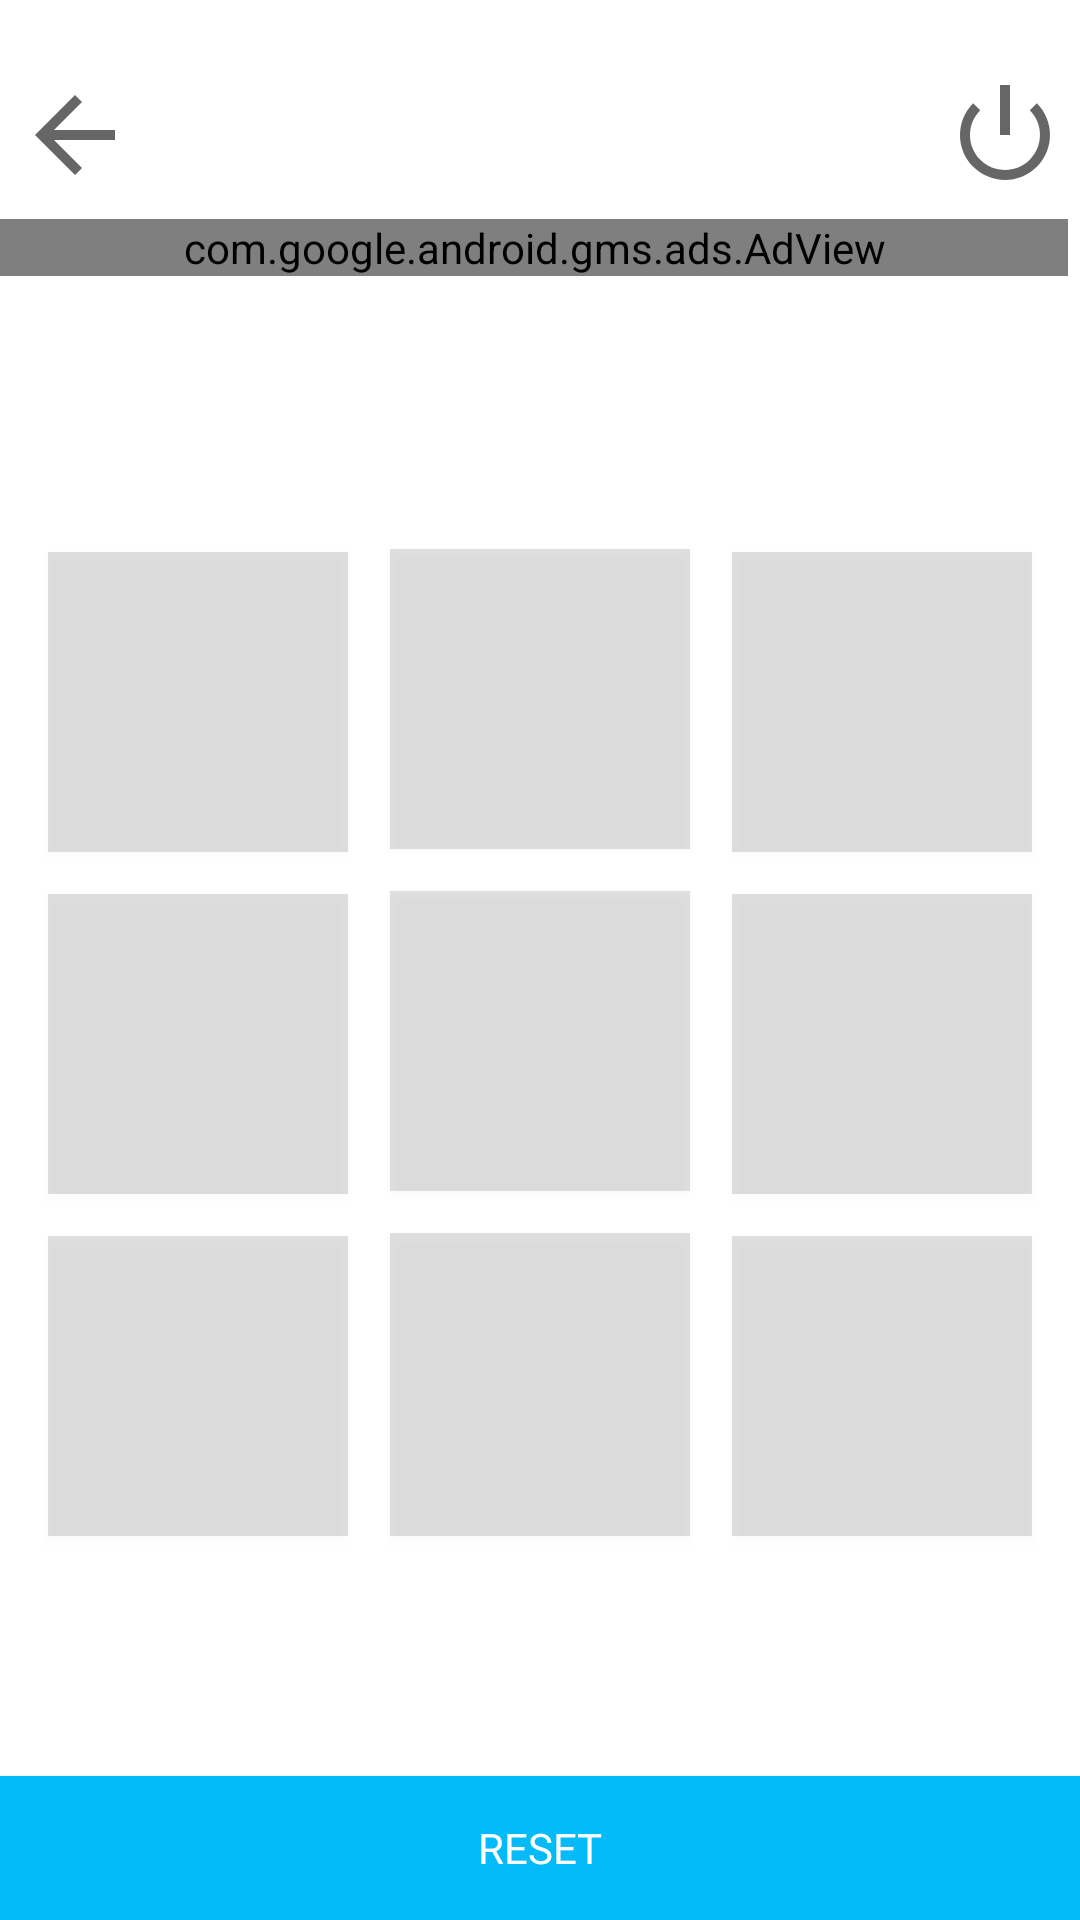

Where to tap for icons on this 1080w x 1920h app screen, as (x,y):
lock power off: (1005,132)
